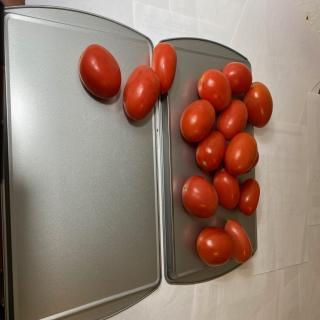Chilli: (179, 61, 273, 267)
Tomato: (78, 44, 122, 99), (123, 64, 160, 120), (196, 226, 233, 267), (182, 176, 218, 218), (180, 99, 215, 142), (224, 132, 258, 176), (197, 69, 232, 111), (243, 82, 273, 128), (151, 42, 177, 94), (216, 99, 248, 140), (196, 130, 227, 172), (224, 219, 252, 264), (213, 168, 240, 210), (222, 62, 252, 94), (237, 178, 260, 216)
